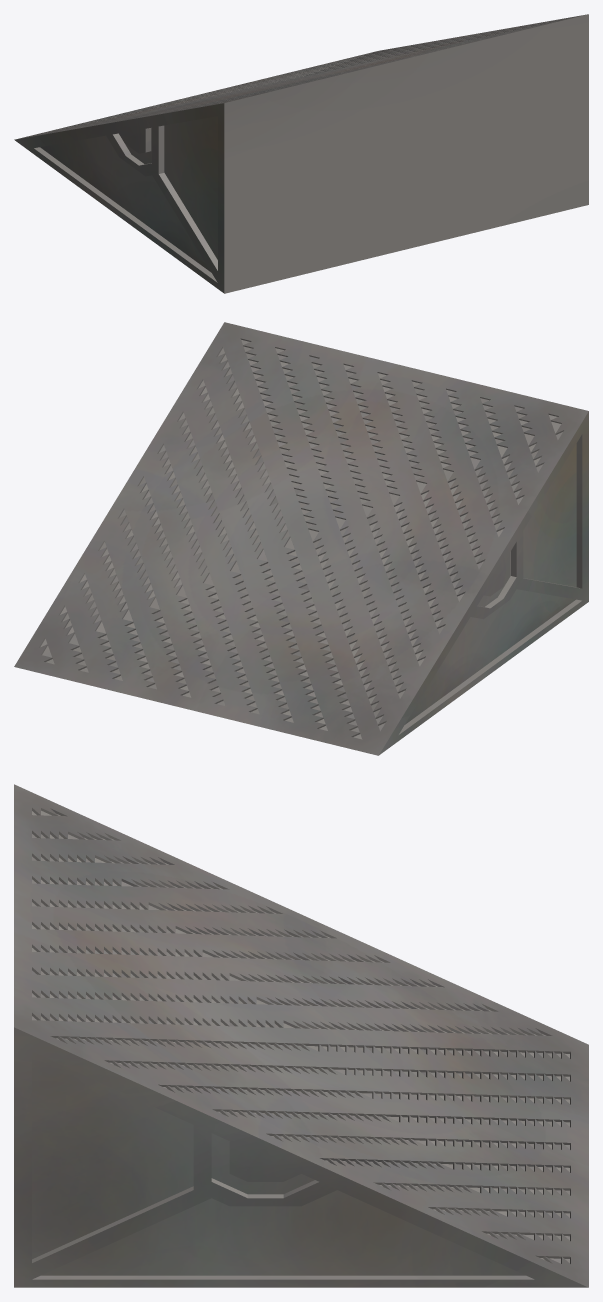
File: wedge1.glb
3 views of the same model, one above another, from view 1: azimuth 30°, elevation 25°; view 2: azimuth 150°, elevation 25°; view 3: azimuth 270°, elevation 25° (orthographic). The views are drawn at different scales.
Visible parts, largest first — view 1: Cube; view 2: Cube; view 3: Cube.
Part boxes in pixels (<box>): Cube: <box>14,14,588,293</box>; Cube: <box>14,322,588,755</box>; Cube: <box>14,784,588,1287</box>.
Bounding box in the file's own units: 2 × 1 × 2.
1 material, 1 textured.
